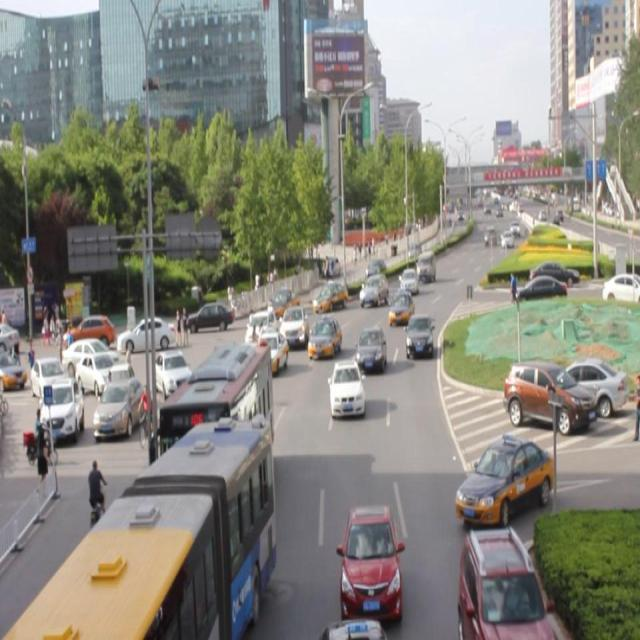car: (458, 526, 553, 640), (455, 435, 555, 525), (338, 502, 401, 618), (327, 357, 364, 416), (211, 345, 245, 395), (277, 303, 312, 351), (248, 334, 288, 376), (324, 614, 388, 640), (183, 300, 235, 332), (402, 311, 434, 357), (307, 315, 341, 357), (354, 328, 386, 372), (311, 279, 348, 315), (245, 310, 278, 347), (388, 288, 414, 328), (358, 273, 387, 308), (396, 266, 419, 298)
truck: (415, 250, 436, 283)
van: (1, 416, 273, 640), (163, 347, 275, 513)
